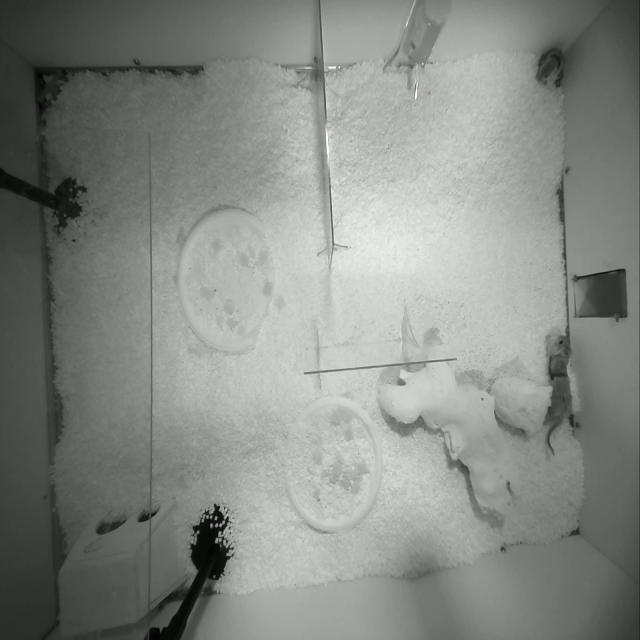adult_front: (543, 334, 572, 455)
pup_h_stripe: (536, 47, 563, 86)
